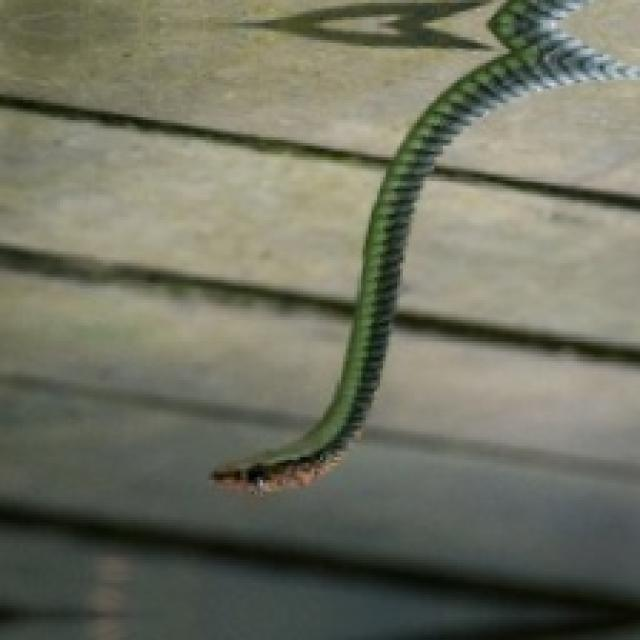paradise tree snake: (211, 0, 637, 489)
